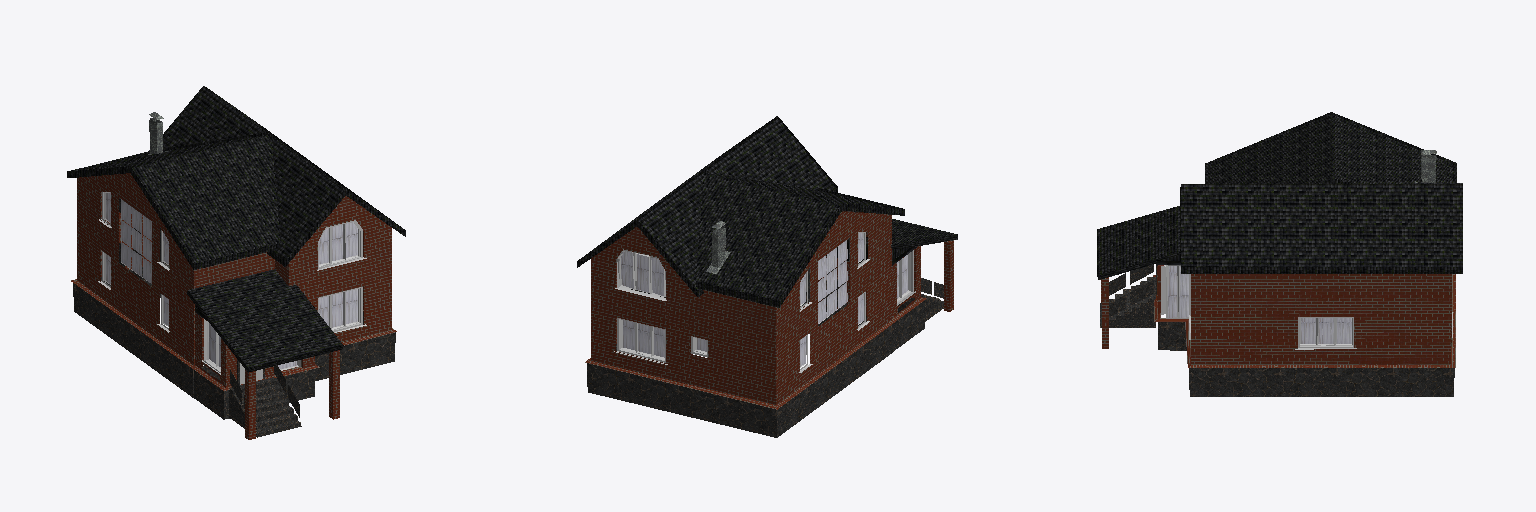
The picture shows the model from 3 angles: view 1: azimuth 30°, elevation 25°; view 2: azimuth 150°, elevation 25°; view 3: azimuth 270°, elevation 25°; orthographic projection.
Parts seen in each view (by area): view 1: стена.041_Plane.166, Roof2dup.001_Roof.003, Cube.403_Cube.519, roof1dup_Roof.004, фундамент.021_Plane.165, Stair.018_Stair.016, стена.042_Plane.169, откос_над_фундаментом.014_Plane.167, Cube.405_Cube.521, Cube.404_Cube.520, труба.019_Plane.168; view 2: стена.041_Plane.166, Roof2dup.001_Roof.003, фундамент.021_Plane.165, roof1dup_Roof.004, откос_над_фундаментом.014_Plane.167, Cube.403_Cube.519, стена.042_Plane.169, Stair.018_Stair.016, Cube.405_Cube.521, труба.019_Plane.168, Window_Panel.661_Window_Panel.589, Window_Panel.663_Window_Panel.591; view 3: roof1dup_Roof.004, стена.041_Plane.166, Roof2dup.001_Roof.003, фундамент.021_Plane.165, Cube.403_Cube.519, Stair.018_Stair.016, откос_над_фундаментом.014_Plane.167, Window_Panel.061.
Part boxes in pixels (left/top/right/bottom): стена.041_Plane.166: left=77, top=173, right=391, bottom=365; Roof2dup.001_Roof.003: left=67, top=132, right=281, bottom=269; Cube.403_Cube.519: left=187, top=269, right=343, bottom=372; roof1dup_Roof.004: left=148, top=86, right=405, bottom=266; фундамент.021_Plane.165: left=73, top=198, right=395, bottom=419; Stair.018_Stair.016: left=229, top=365, right=301, bottom=437; стена.042_Plane.169: left=195, top=312, right=314, bottom=387; откос_над_фундаментом.014_Plane.167: left=71, top=267, right=396, bottom=390; Cube.405_Cube.521: left=245, top=370, right=255, bottom=439; Cube.404_Cube.520: left=329, top=350, right=339, bottom=419; труба.019_Plane.168: left=148, top=112, right=167, bottom=154; стена.041_Plane.166: left=591, top=211, right=891, bottom=404; Roof2dup.001_Roof.003: left=696, top=170, right=904, bottom=307; фундамент.021_Plane.165: left=587, top=212, right=924, bottom=437; roof1dup_Roof.004: left=577, top=116, right=837, bottom=296; откос_над_фундаментом.014_Plane.167: left=585, top=278, right=926, bottom=409; Cube.403_Cube.519: left=866, top=219, right=957, bottom=249; стена.042_Plane.169: left=835, top=246, right=920, bottom=318; Stair.018_Stair.016: left=898, top=278, right=943, bottom=321; Cube.405_Cube.521: left=944, top=240, right=953, bottom=311; труба.019_Plane.168: left=706, top=221, right=730, bottom=273; Window_Panel.661_Window_Panel.589: left=619, top=251, right=635, bottom=289; Window_Panel.663_Window_Panel.591: left=650, top=256, right=665, bottom=296; roof1dup_Roof.004: left=1180, top=183, right=1462, bottom=273; стена.041_Plane.166: left=1191, top=274, right=1451, bottom=364; Roof2dup.001_Roof.003: left=1205, top=112, right=1456, bottom=183; фундамент.021_Plane.165: left=1158, top=322, right=1454, bottom=396; Cube.403_Cube.519: left=1097, top=206, right=1180, bottom=279; Stair.018_Stair.016: left=1100, top=265, right=1155, bottom=327; откос_над_фундаментом.014_Plane.167: left=1153, top=274, right=1455, bottom=367; Window_Panel.061: left=1168, top=266, right=1178, bottom=317.
Bounding box in the file's own units: 9.01 × 8.2 × 14.27.
11 materials, 5 textured.